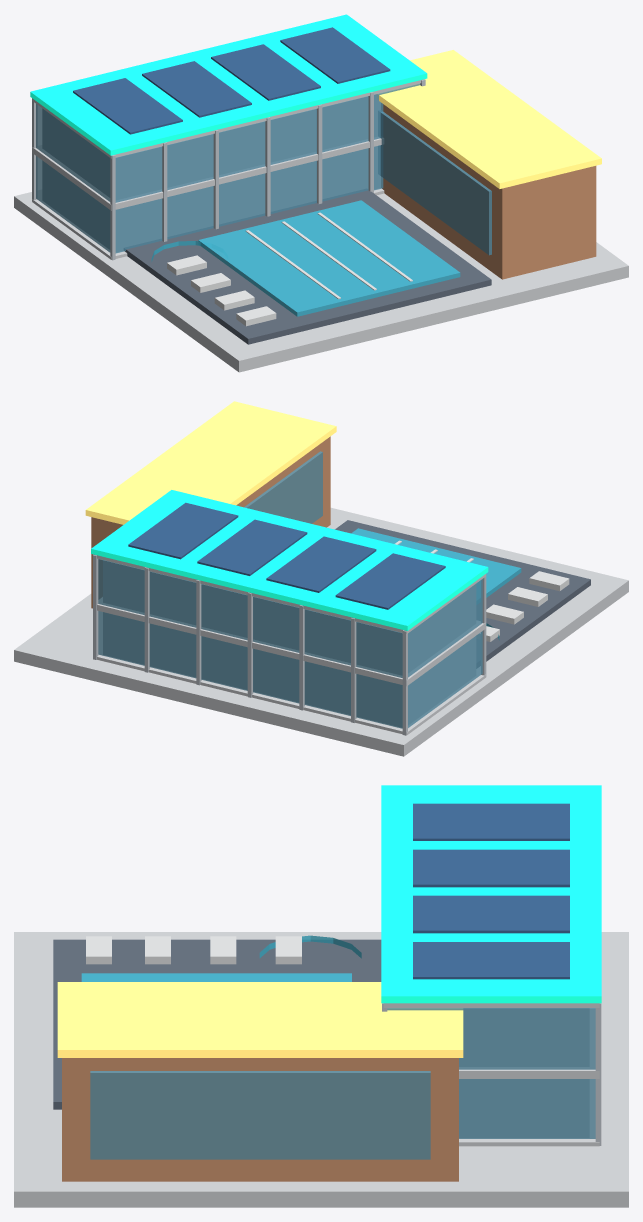
Rendered from recovery_hydro_hub.glb.
3 renders of one model, top to bottom at view 1: azimuth 30°, elevation 25°; view 2: azimuth 150°, elevation 25°; view 3: azimuth 270°, elevation 25°, orthographic. The views are drawn at different scales.
Parts seen in each view (by area): view 1: recovery_hydro_hub; view 2: recovery_hydro_hub; view 3: recovery_hydro_hub.
Boxes of the visible parts, x1=… form: recovery_hydro_hub: x1=14, y1=14, x2=628, y2=372; recovery_hydro_hub: x1=14, y1=401, x2=628, y2=756; recovery_hydro_hub: x1=14, y1=785, x2=628, y2=1207.
Size of the model in its own units: 2.82 by 0.855 by 2.82.
